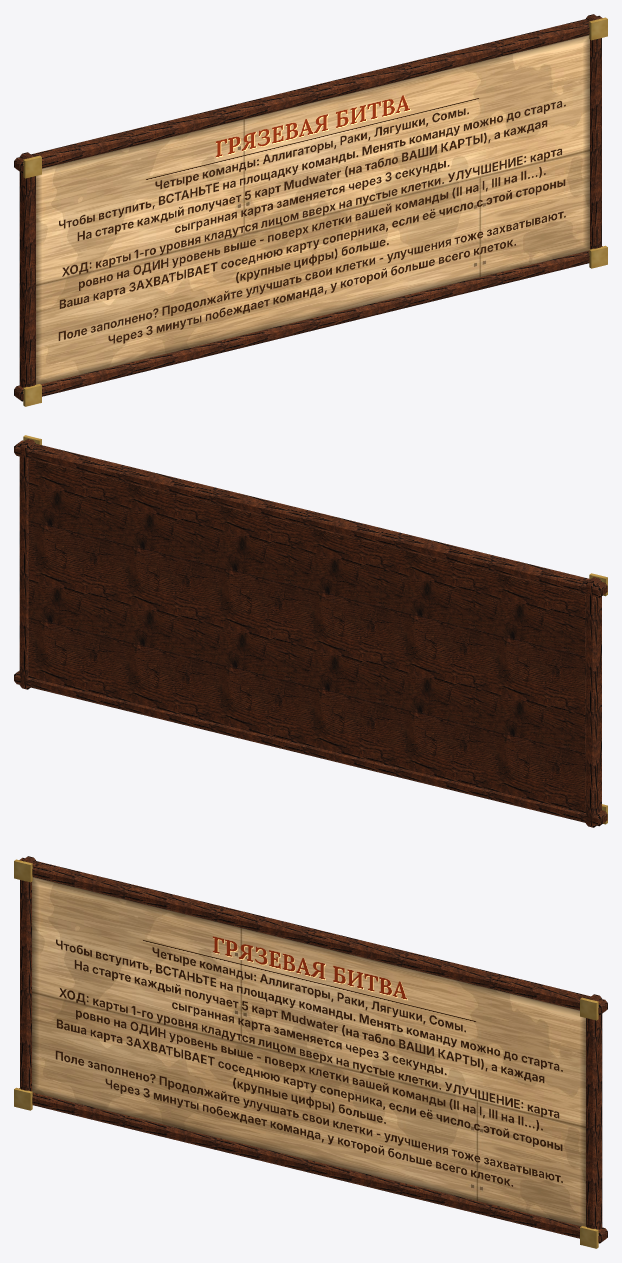
Rendered from sg_ru_royale_rules.glb.
3 renders of one model, top to bottom at view 1: azimuth 30°, elevation 25°; view 2: azimuth 150°, elevation 25°; view 3: azimuth 330°, elevation 25°, orthographic.
Parts seen in each view (by area): view 1: spire; view 2: spire; view 3: spire.
Part boxes in pixels (x1,y1,x2,y2): spire: [14, 14, 607, 406]; spire: [14, 435, 607, 827]; spire: [14, 856, 607, 1248].
Size of the model in its own units: 6.36 by 2.54 by 0.19.
3 materials, 3 textured.
